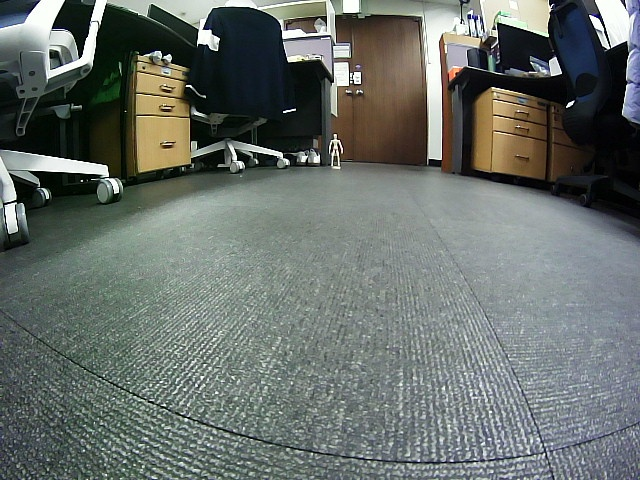person: (329, 133, 343, 167)
